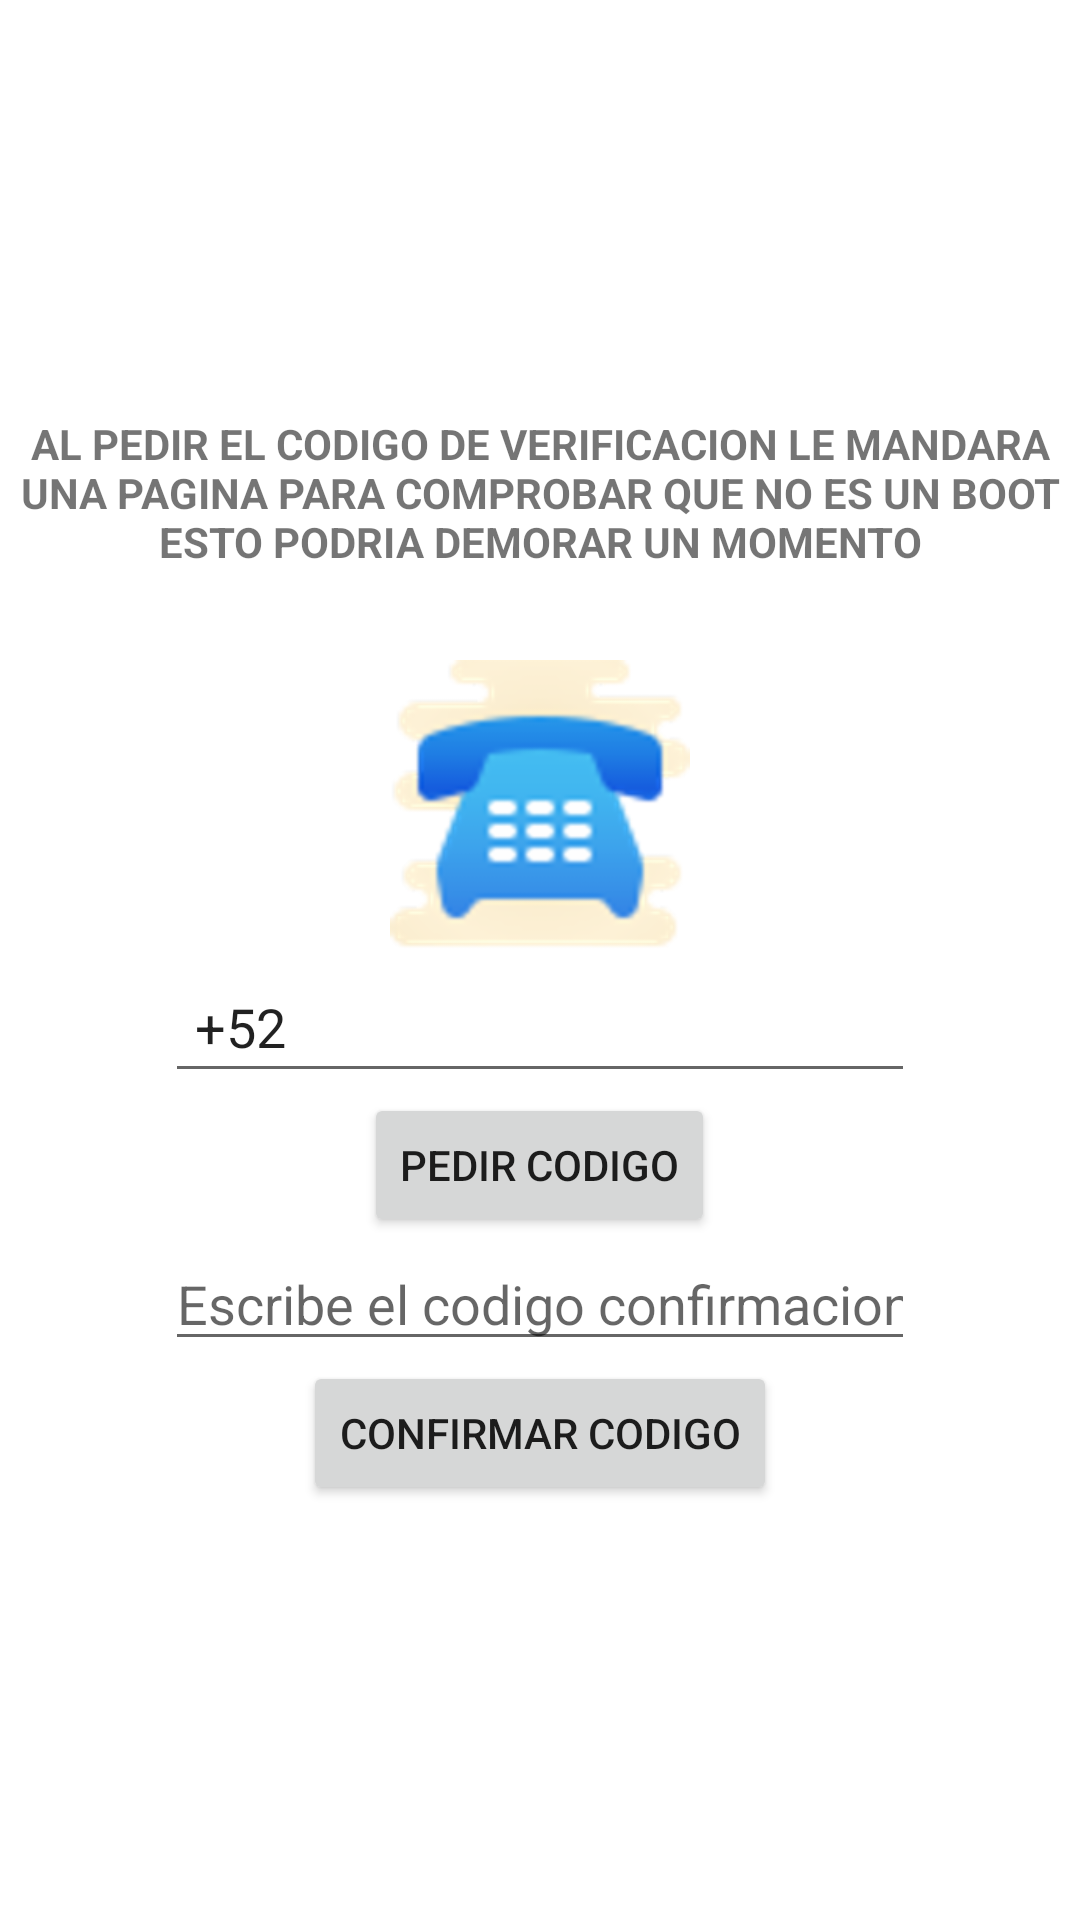

Named icons in this screenshot (1080 × 1920) and their bounding boxes, Rect(x1, y1, x2, y2):
telefono: Rect(390, 660, 690, 946)
